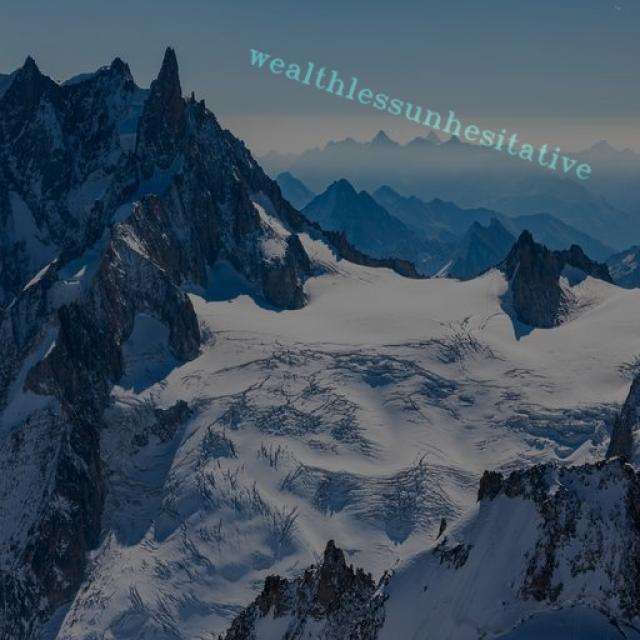watermark: (237, 39, 610, 185)
